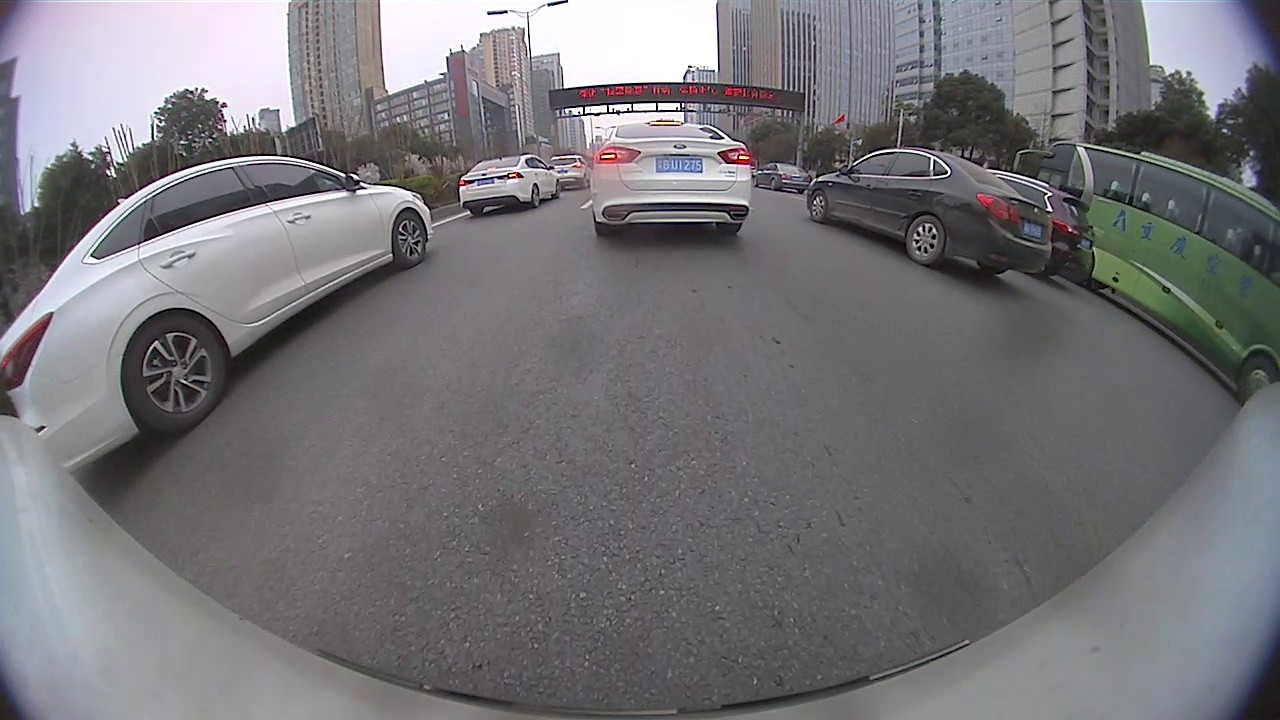bus: (1010, 138, 1278, 402)
car: (1, 154, 433, 472), (805, 146, 1055, 277), (591, 120, 753, 237), (979, 167, 1095, 284), (458, 154, 561, 217), (753, 162, 813, 192), (548, 155, 593, 190)
front: (389, 210, 432, 267), (810, 190, 831, 224)
rear: (129, 321, 231, 432), (904, 213, 947, 269), (1236, 360, 1275, 410), (528, 184, 541, 213)
